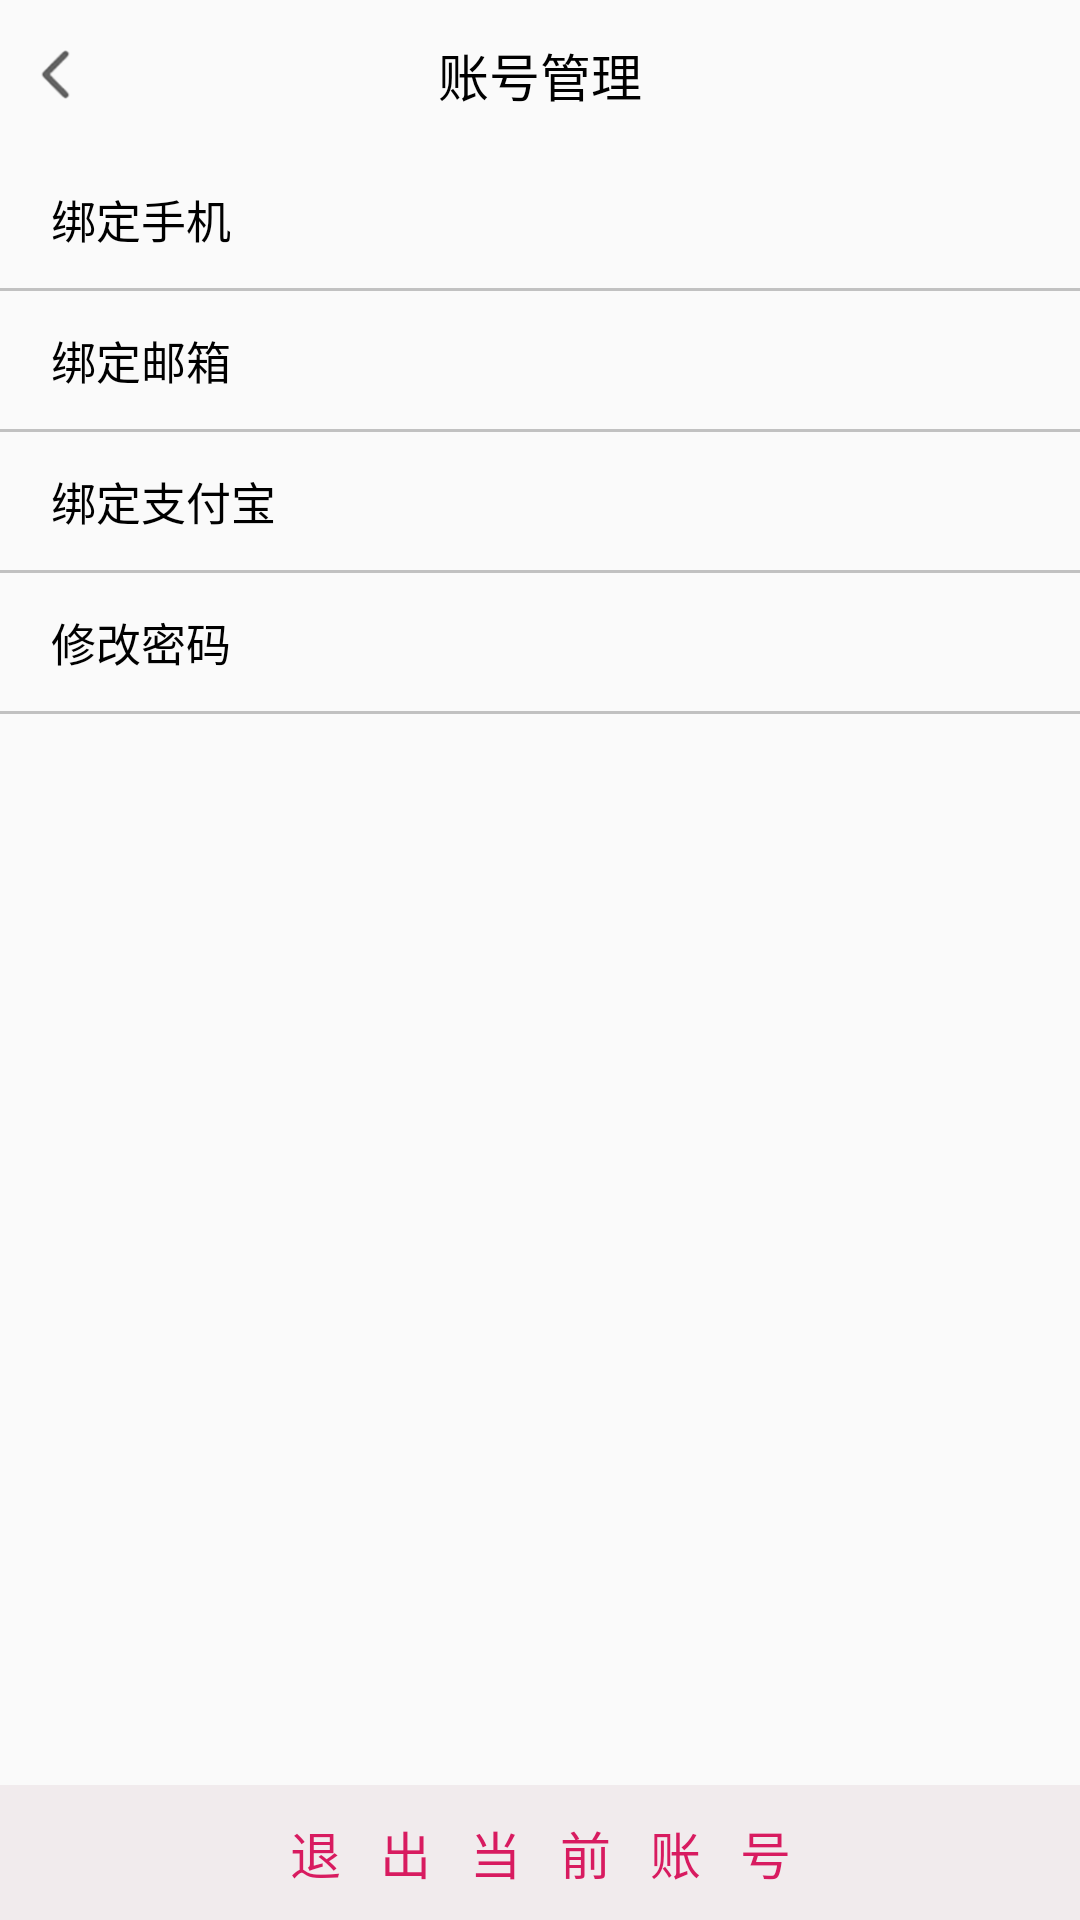

Locate icon controls on the screen. Image size 1080×1920, boxes as (x1, y1, x2, y2).
back: (42, 50, 69, 99)
